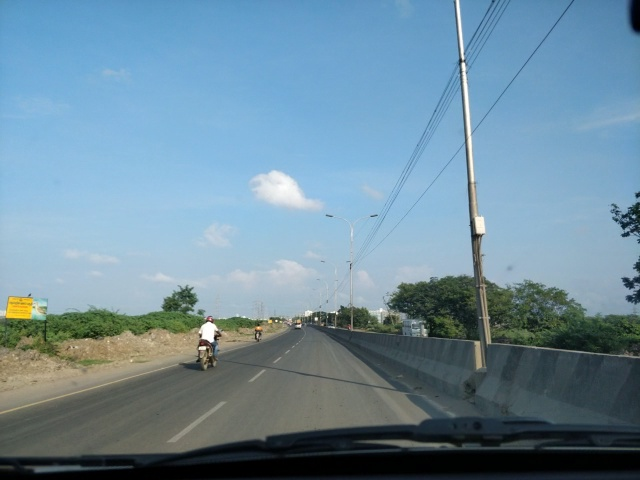bus: (402, 317, 434, 337)
motorbike: (193, 313, 218, 372), (248, 317, 265, 346)
